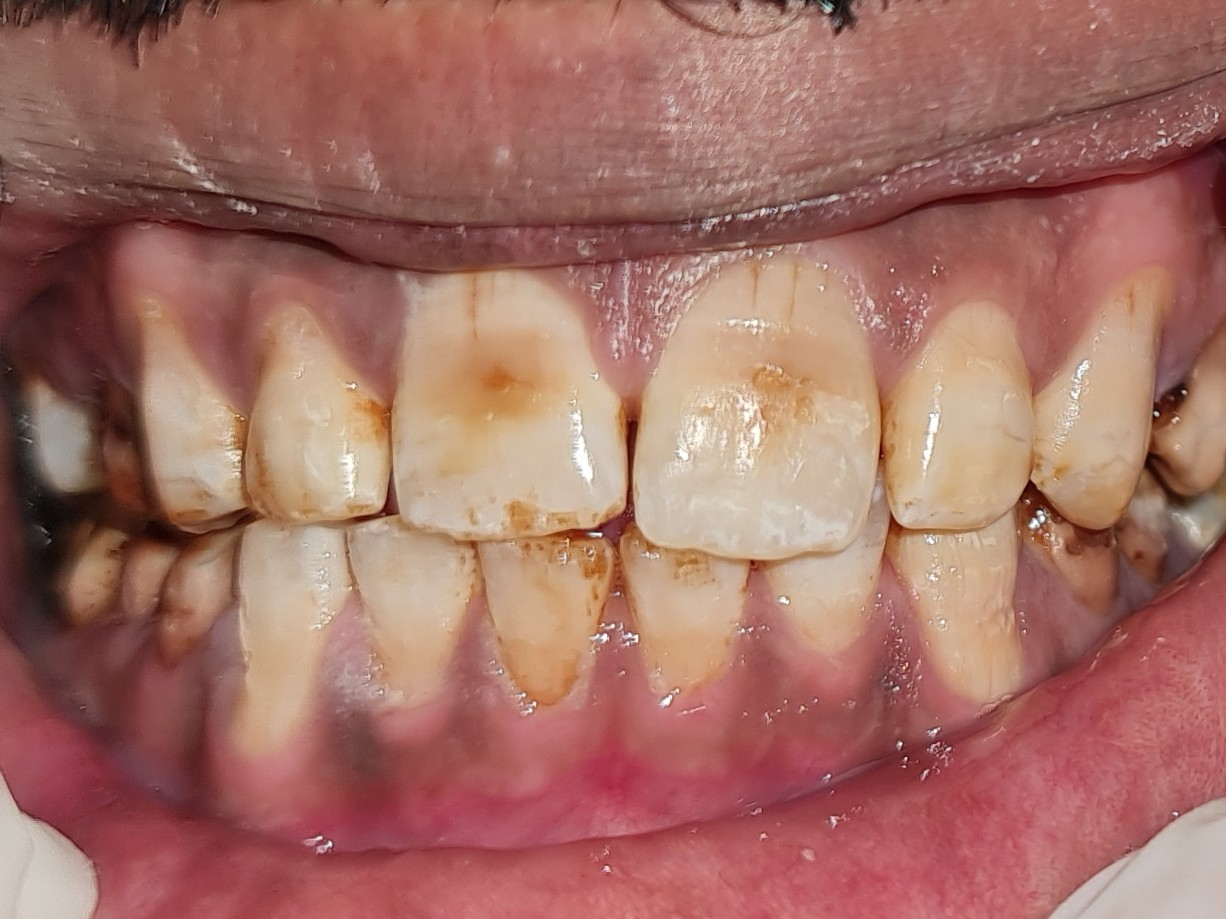D: (1124, 264, 1225, 499)
